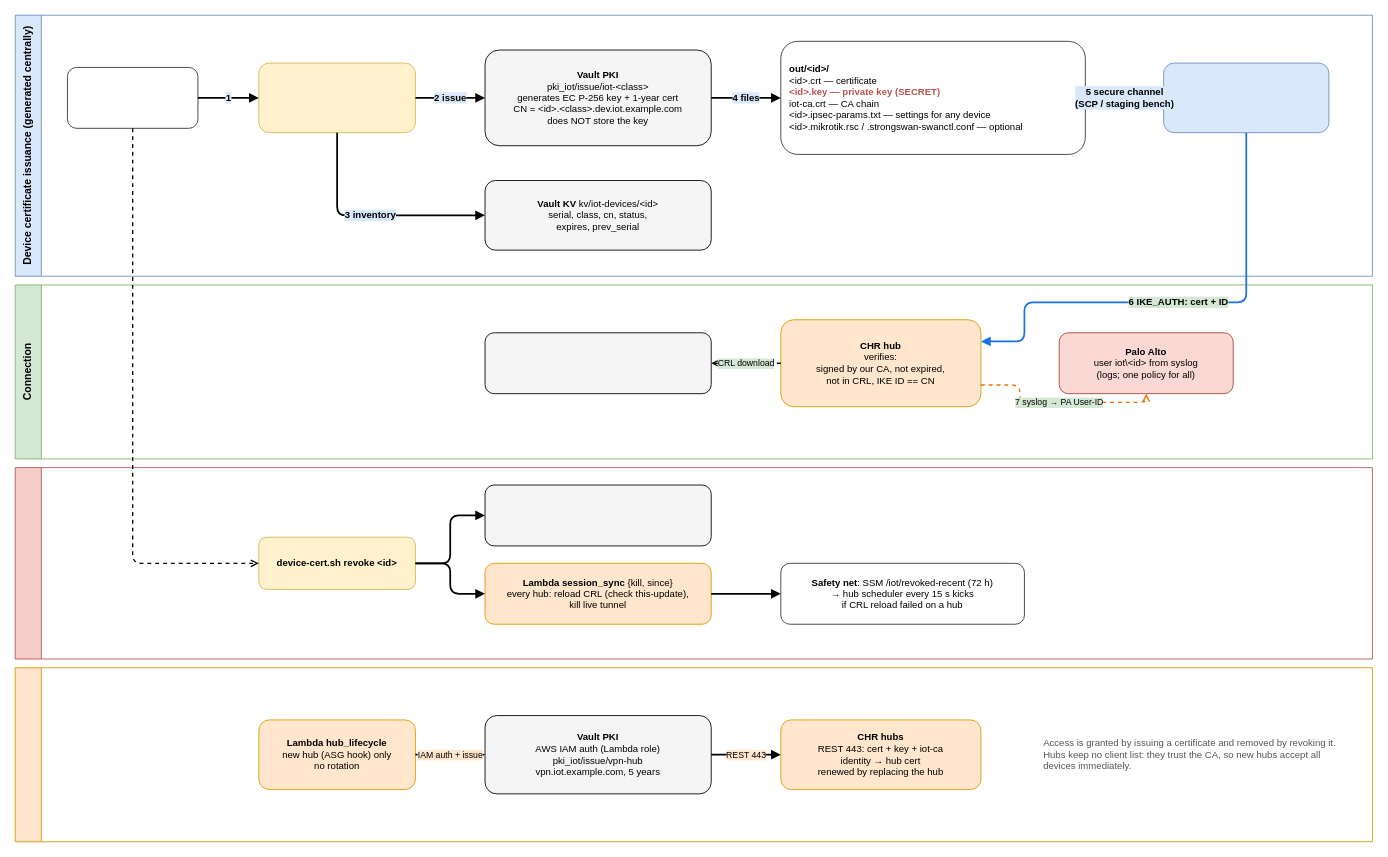
Some shapes in this 1388 by 857 pixel diagram are drawn without their labels. The shapes that lost their labels are listed below. From the top down, each one's box as (x1, y1, x2, y2) in pixels, then its label:
(67, 67, 198, 128): Operator provisioning host (EC2 via SSM)
(258, 62, 415, 133): device-cert.sh issue <id> <class> bulk devices.csv renew <id>
(1163, 62, 1329, 133): IoT device (any IKEv2 client) imports cert + key + CA, IKE ID = CN
(484, 332, 711, 394): Vault CRL /v1/pki_iot/crl
(484, 484, 711, 546): Vault pki_iot/revoke + crl/rotate → CRL rebuilt now KV status = revoked
(14, 467, 1372, 659): Revocation
(14, 667, 1372, 842): Hub certificates
